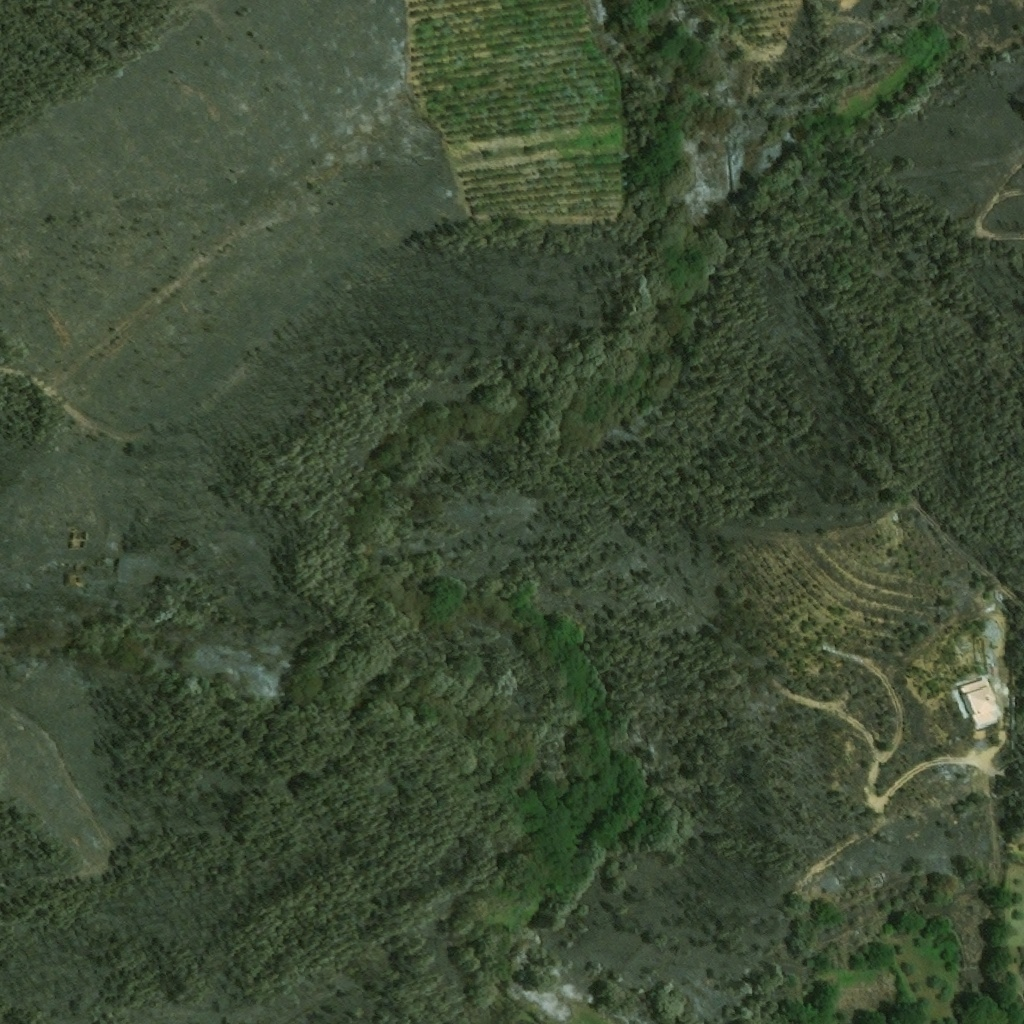0 no-damage: (957, 676, 1002, 728)
